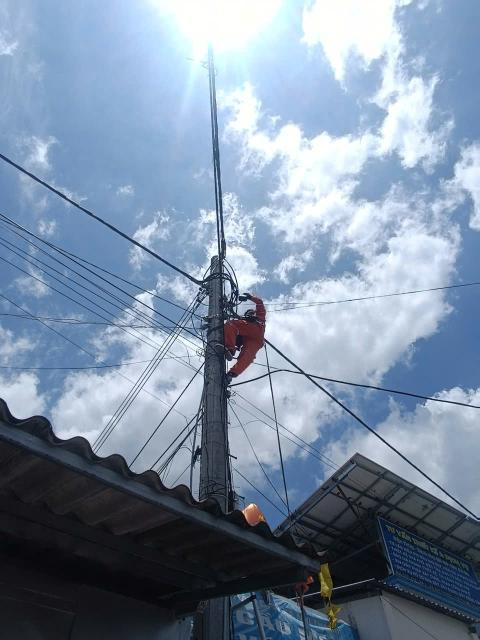gloves: (231, 280, 256, 302)
harness: (246, 319, 275, 341)
helmet: (243, 306, 257, 315)
shoes: (212, 342, 238, 362), (222, 369, 233, 384)
